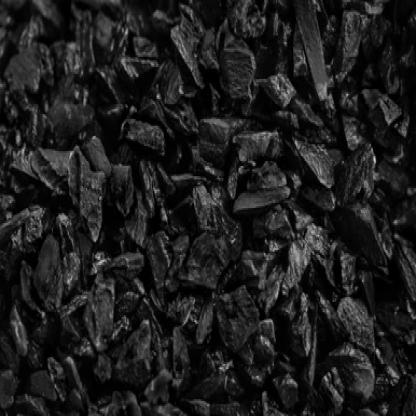Sedimentary_coal: (324, 342, 380, 408), (296, 119, 343, 188), (230, 175, 286, 223), (260, 59, 294, 131)
